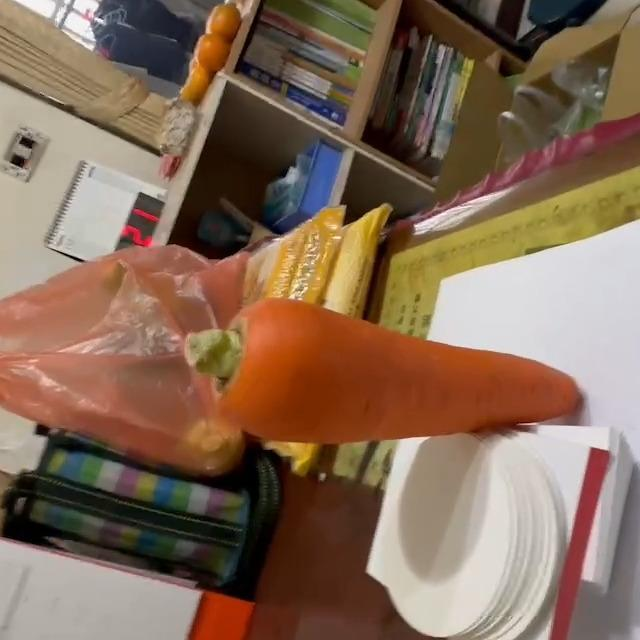carrot: (177, 296, 581, 443)
